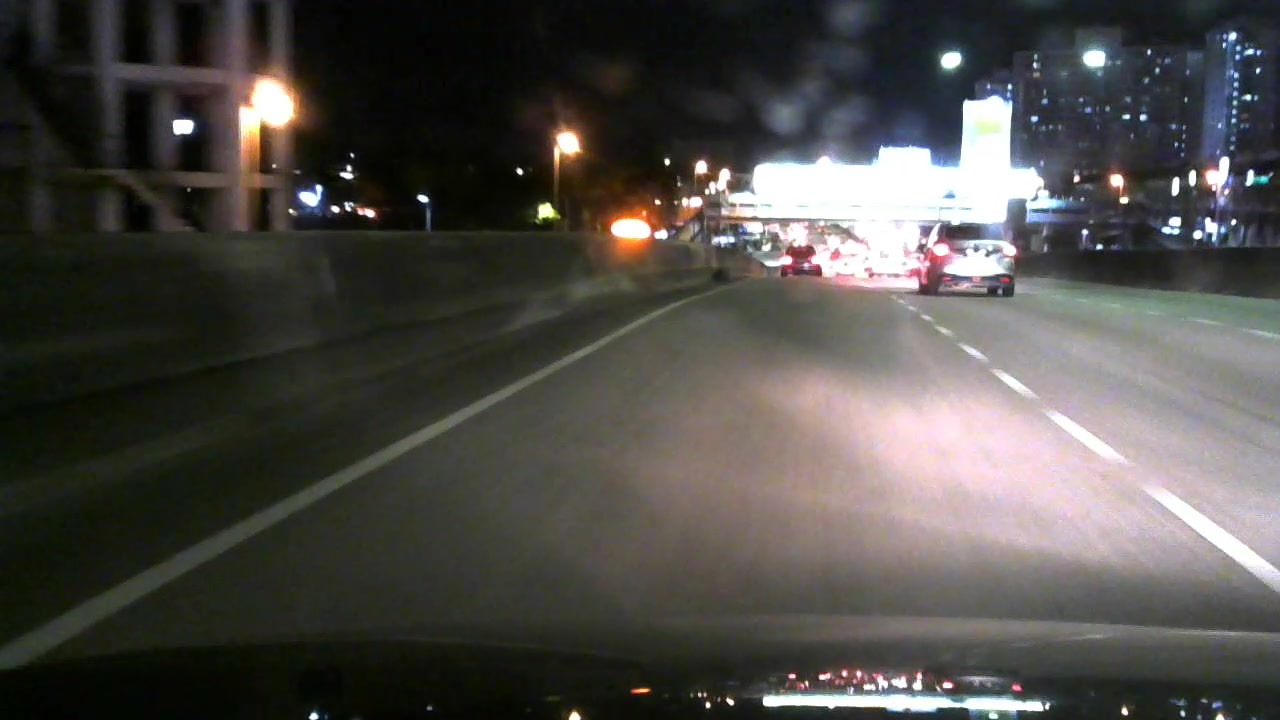Car: (912, 215, 1030, 297), (780, 245, 827, 284)
